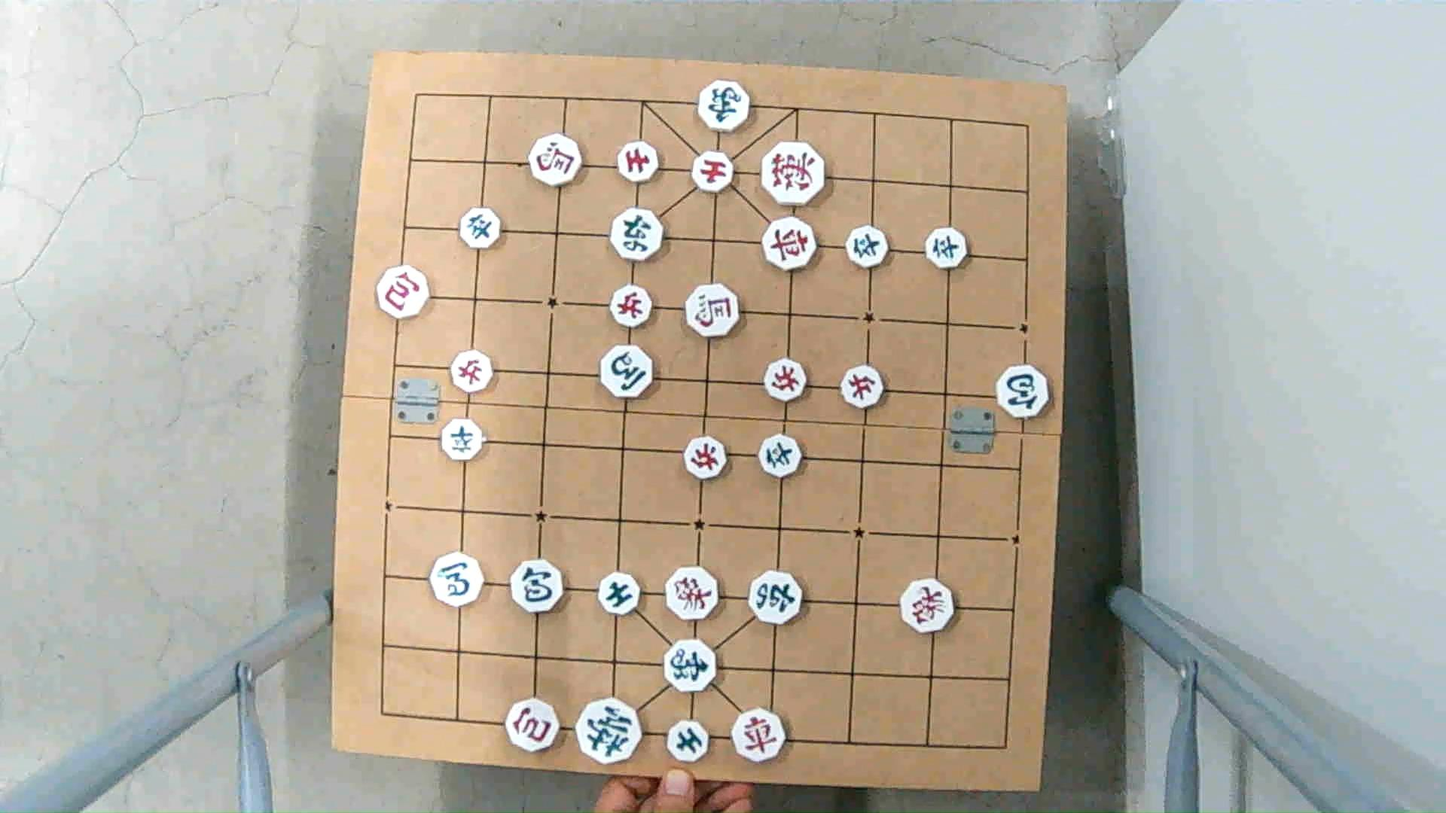cha_green: (749, 571, 806, 622), (609, 208, 665, 258)
cha_red: (766, 219, 816, 267), (734, 713, 785, 760)
jol_green: (758, 436, 805, 476), (923, 229, 970, 267), (439, 422, 486, 460), (847, 227, 892, 266), (459, 209, 505, 247)
jol_red: (682, 439, 729, 479), (609, 285, 655, 325), (766, 361, 813, 400), (840, 367, 885, 406), (449, 352, 495, 390)
ma_green: (428, 555, 485, 606), (599, 346, 656, 397)
ma_red: (686, 285, 743, 335), (527, 136, 584, 184)
po_green: (994, 365, 1050, 415), (510, 563, 566, 612)
po_red: (376, 269, 431, 319), (508, 702, 559, 751)
sa_green: (596, 574, 645, 613), (667, 723, 712, 762)
sa_red: (616, 139, 660, 182), (690, 154, 737, 192)
sang_green: (666, 642, 715, 690), (698, 82, 749, 128)
sang_red: (901, 583, 956, 633), (663, 567, 715, 618)
wang_green: (577, 702, 639, 760)
wang_red: (761, 145, 825, 203)
